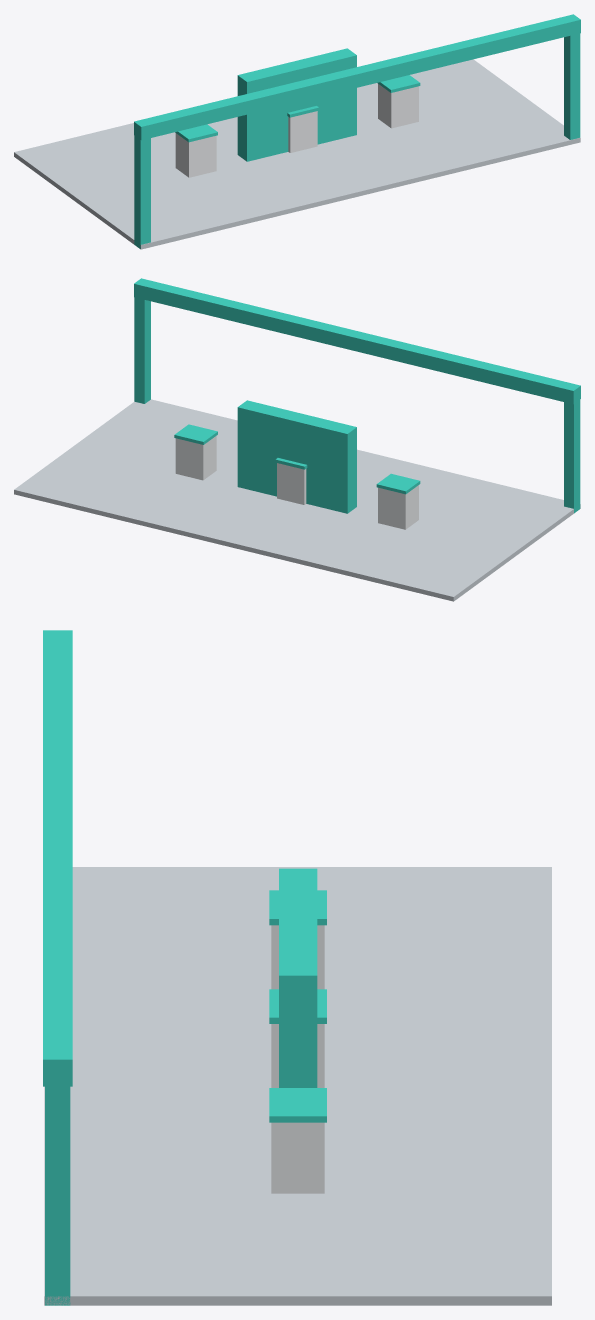
3 renders of one model, top to bottom at view 1: azimuth 30°, elevation 25°; view 2: azimuth 150°, elevation 25°; view 3: azimuth 270°, elevation 25°, orthographic. The views are drawn at different scales.
Visible parts, largest first — view 1: Exhibition Booth Concept; view 2: Exhibition Booth Concept; view 3: Exhibition Booth Concept.
Boxes of the visible parts, <box> form: Exhibition Booth Concept: <box>14,14,580,249</box>; Exhibition Booth Concept: <box>14,278,580,601</box>; Exhibition Booth Concept: <box>43,630,551,1305</box>.
Bounding box in the file's own units: 12 × 3.2 × 6.02.
